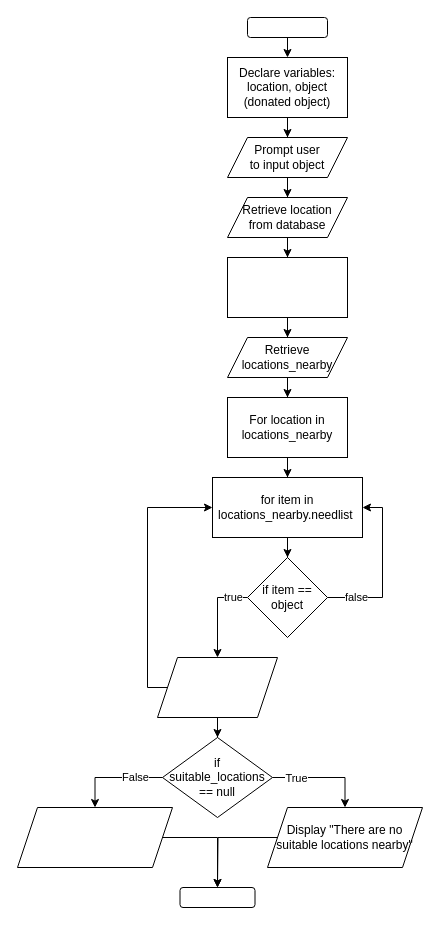
The diagram is 440 pixels wide and 925 high, and some of its shapes have lost their labels. Here are the shapes that lost their labels. From the top down, the centre of each, then its label:
At point 287,27: "Start".
At point 287,287: "Declare lists: nearby_locations, suitable_locations".
At point 217,687: "Add location to suitable_locations".
At point 94,837: "Display list suitable_locations".
At point 217,897: "Stop".
